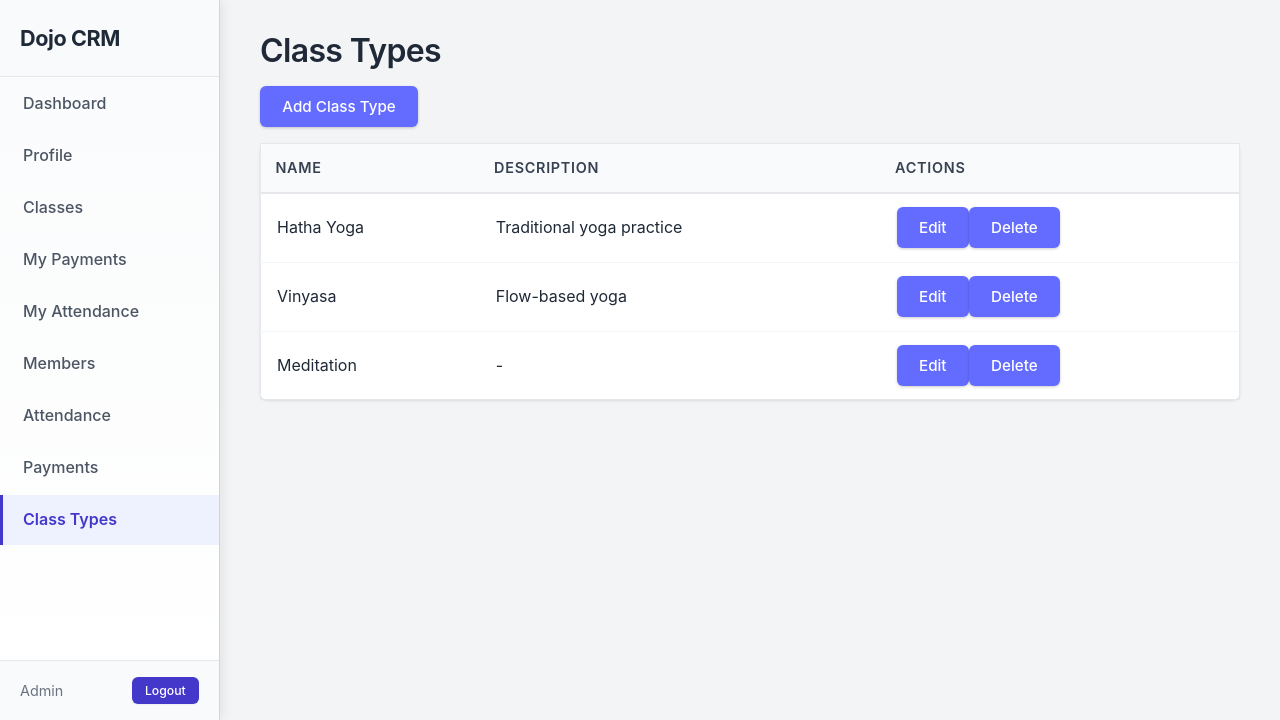
Test case: ClassTypes › edits an existing class type
This screenshot has width=1280, height=720.
Expected: the text "Hatha Yoga" is shown, [260,193,480,262]
Click edit on the first class type
Click the button "Edit" in the row of "Hatha Yoga": click(933, 228) [897,207,969,248]
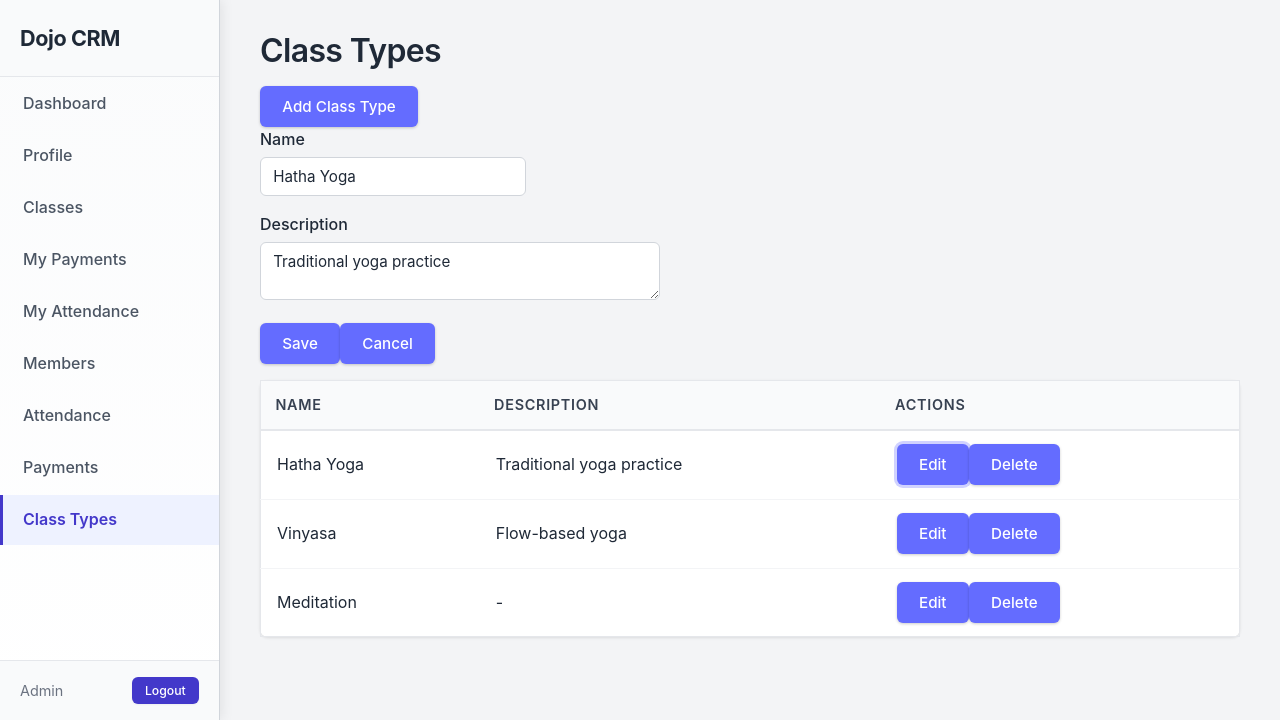
Expected: the form named "Edit class type" is shown, [260,129,660,364]
Expected: the field labelled "Name" holds "Hatha Yoga"
Expected: the text box labelled "Description" holds "Traditional yoga practice", [260,242,660,300]
Replace the text in the field labelled "Name" with "Hatha Flow": (393, 176) [260,157,526,196]
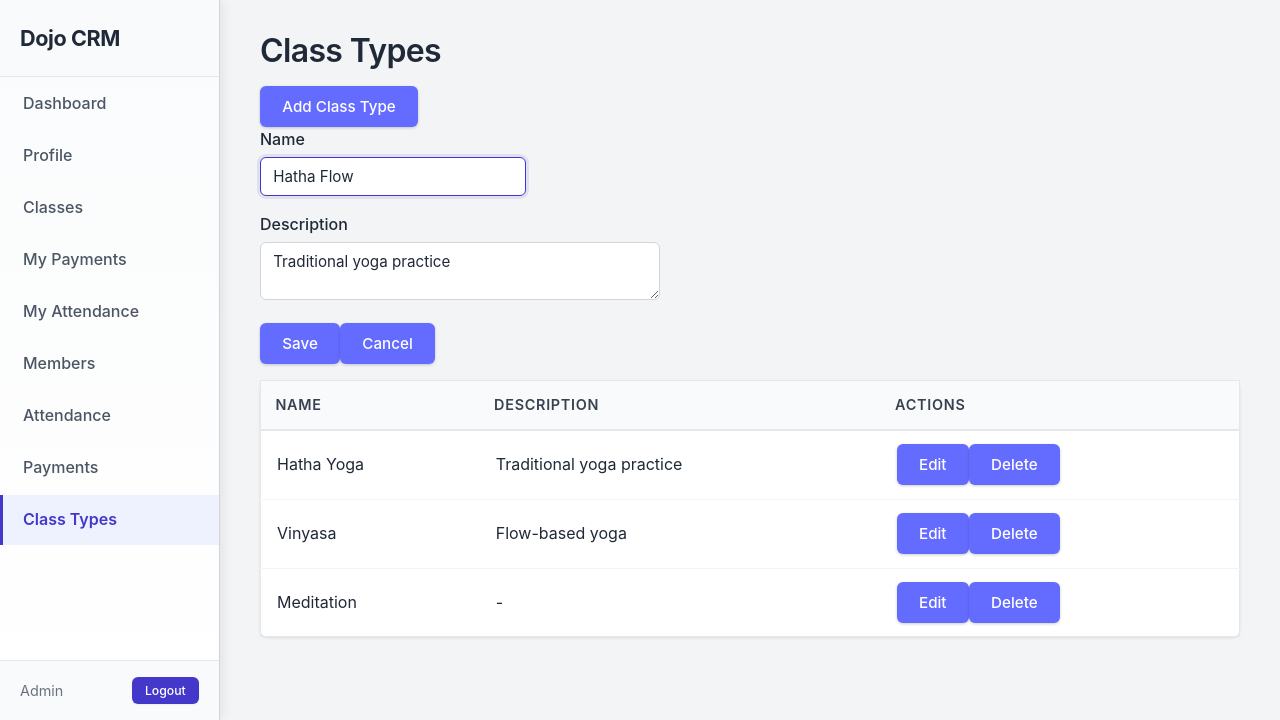
Click the button "Save": click(300, 344) [260,323,340,364]
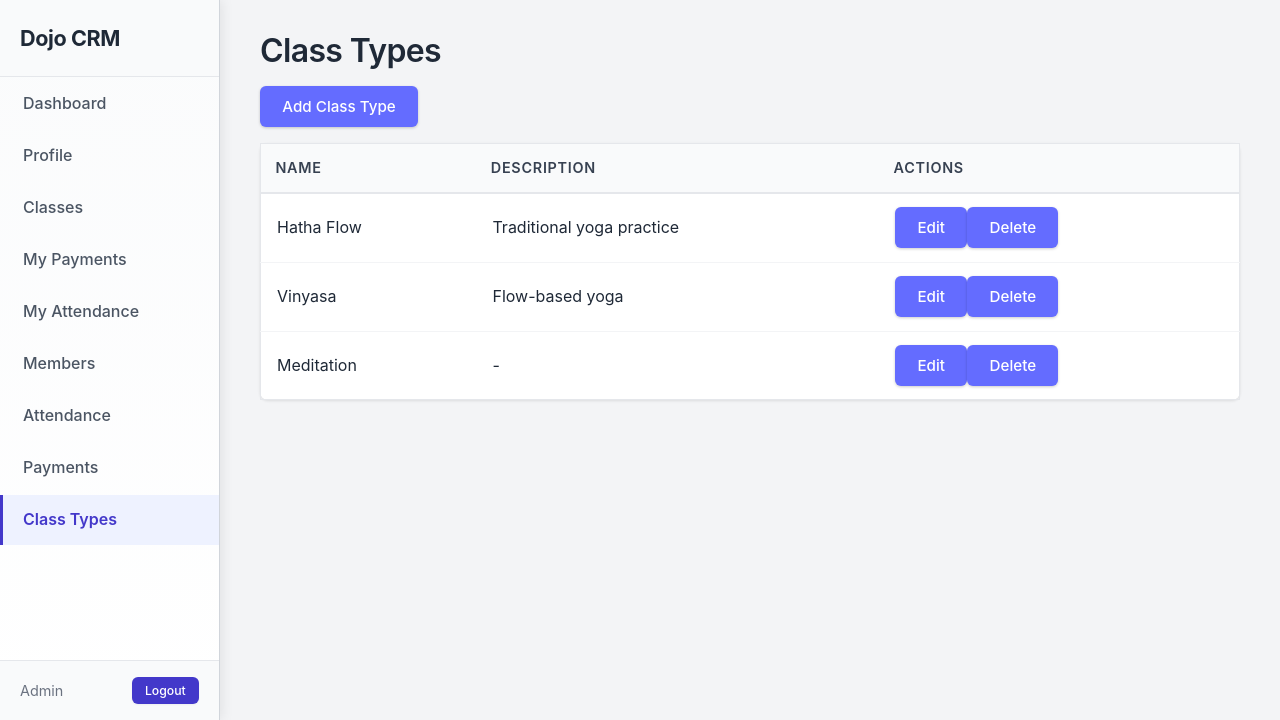
Expected: the text "Hatha Flow" is shown, [260,193,476,262]
Expected: the text "Hatha Yoga" is gone
